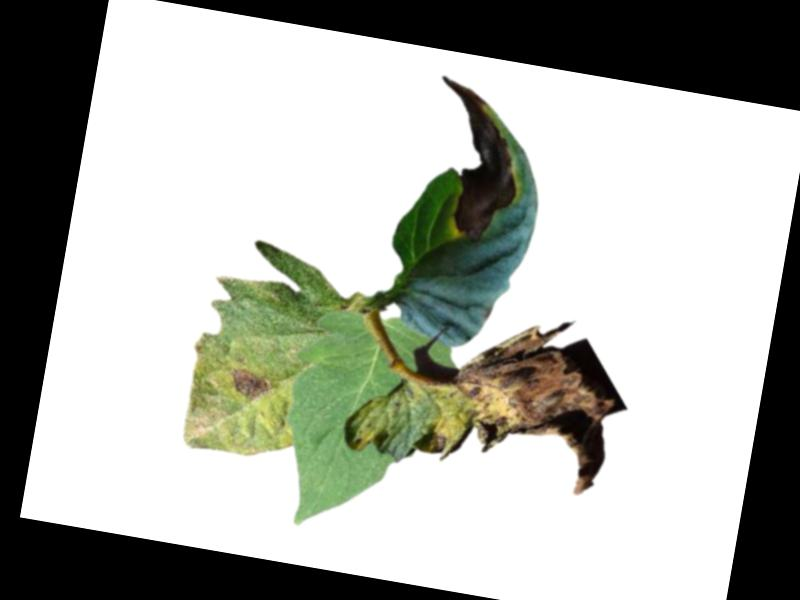Early_blight: (408, 307, 626, 501), (413, 76, 538, 249), (227, 368, 274, 401)
